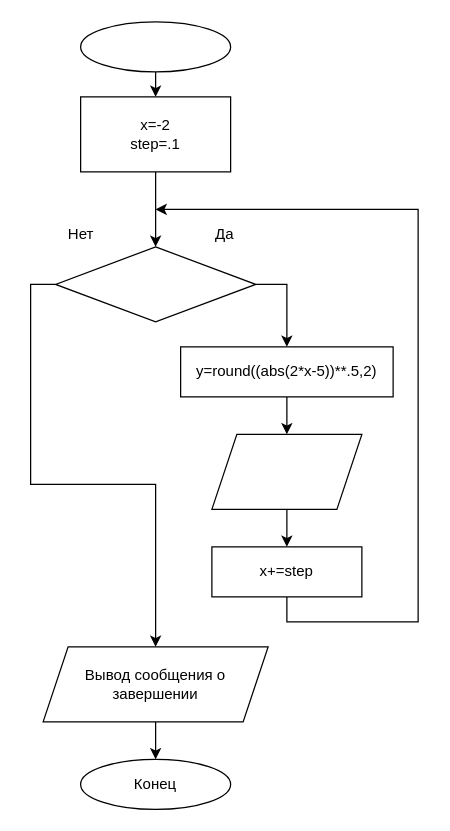
Some shapes in this 450 by 831 pixel diagram are drawn without their labels. Here are the shapes that lost their labels. From the top down, the centre of each, then its label:
At point 155,46: "Начало".
At point 155,284: "x <= 2.1".
At point 286,471: "Вывод Х, Y".
